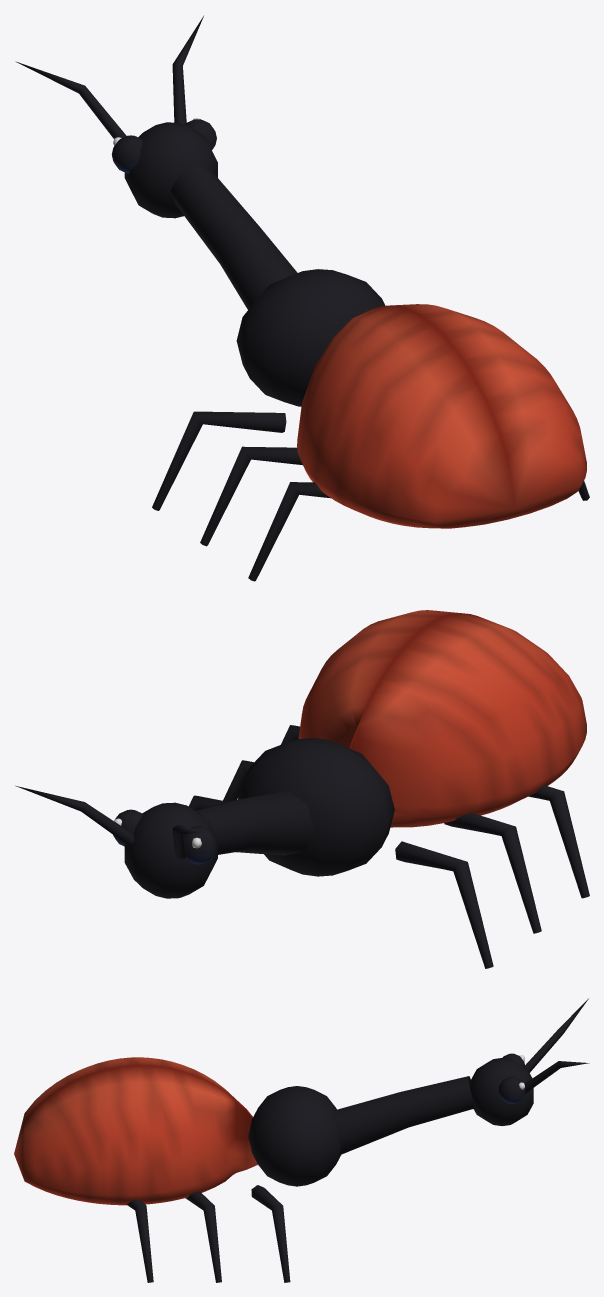
File: Otoshibumi.fbx
3 views of the same model, one above another, from view 1: azimuth 30°, elevation 25°; view 2: azimuth 150°, elevation 25°; view 3: azimuth 270°, elevation 25° (orthographic). The views are drawn at different scales.
Parts seen in each view (by area): view 1: Otoshibumi; view 2: Otoshibumi; view 3: Otoshibumi.
Part boxes in pixels (<box>): Otoshibumi: <box>15,16,589,581</box>; Otoshibumi: <box>15,610,589,968</box>; Otoshibumi: <box>14,998,589,1282</box>.
Bounding box in the file's own units: 0.2855 × 0.2213 × 0.59.
